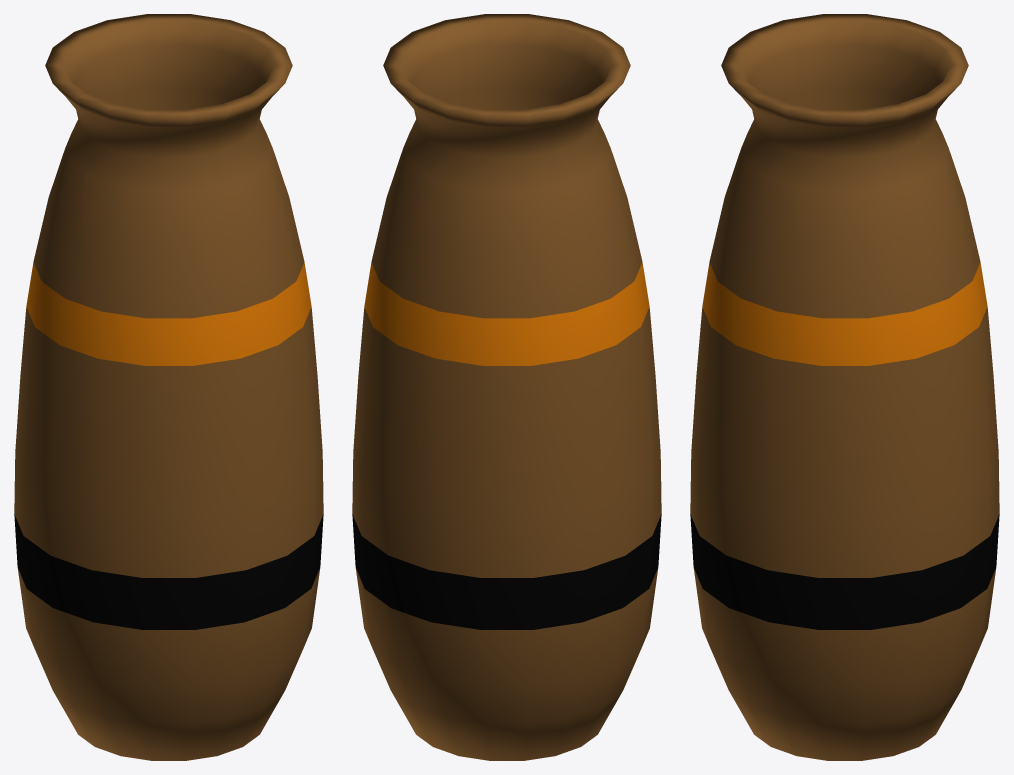
The model's file is Vase.fbx.
3 renders of one model, left to right at view 1: azimuth 30°, elevation 25°; view 2: azimuth 150°, elevation 25°; view 3: azimuth 270°, elevation 25°, orthographic.
Parts seen in each view (by area): view 1: Cylinder; view 2: Cylinder; view 3: Cylinder.
Part boxes in pixels (<box>): Cylinder: <box>14,14,323,760</box>; Cylinder: <box>352,14,661,760</box>; Cylinder: <box>690,14,999,760</box>.
Size of the model in its own units: 31.51 by 74.77 by 31.99.
